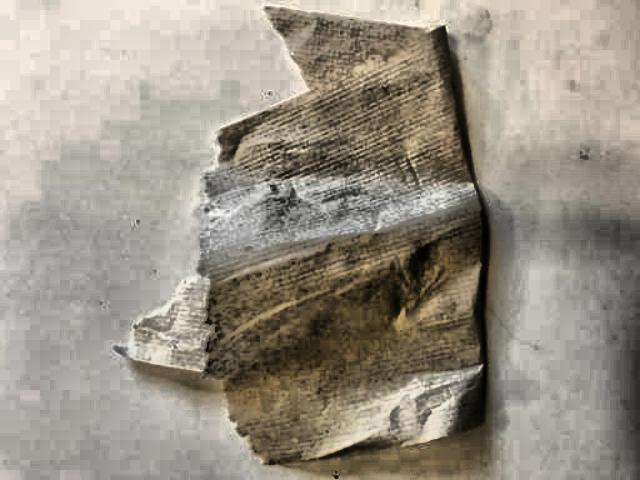Paper: (138, 0, 501, 459)
